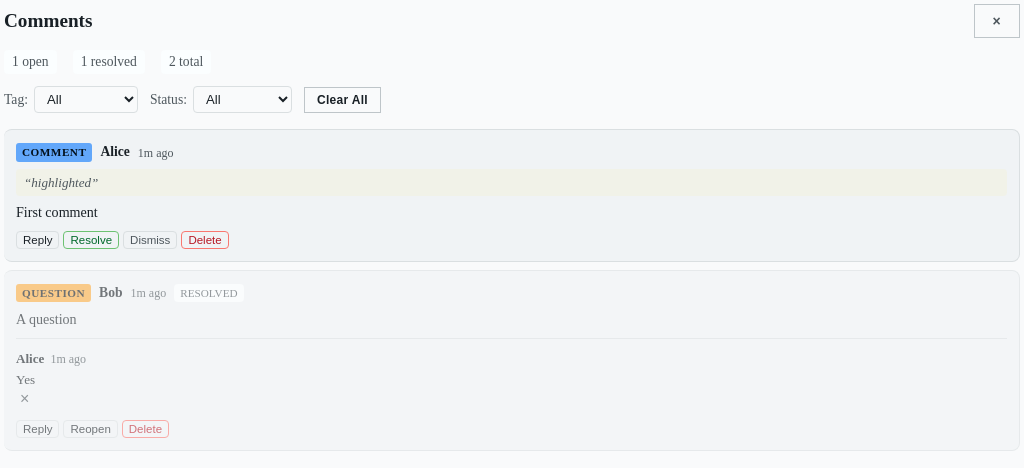
CommentManager › Clear All disables when there are no comments and clears the list
expect the text "First comment" is shown: met, box 16,204 -> 98,220
Step 1. Click the button "Clear All" → (342, 100), box 304,87 -> 381,113
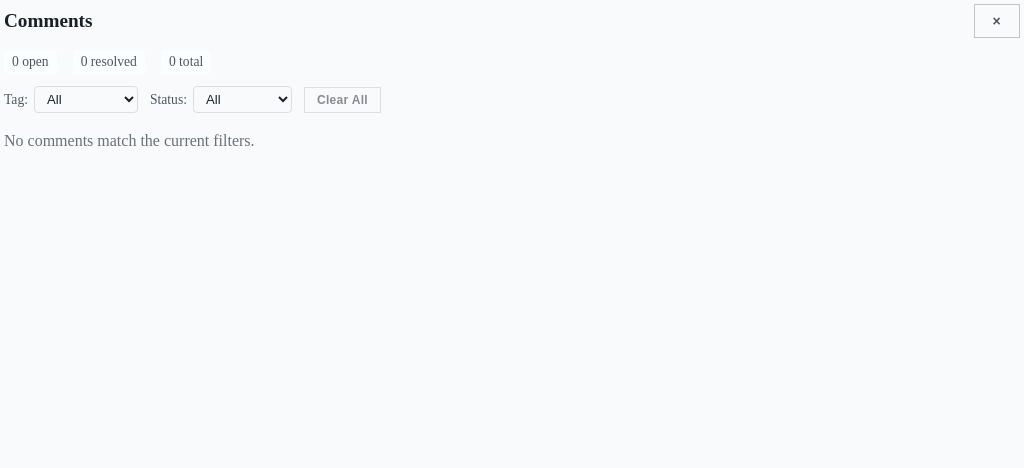
expect the text "First comment" is gone: met
